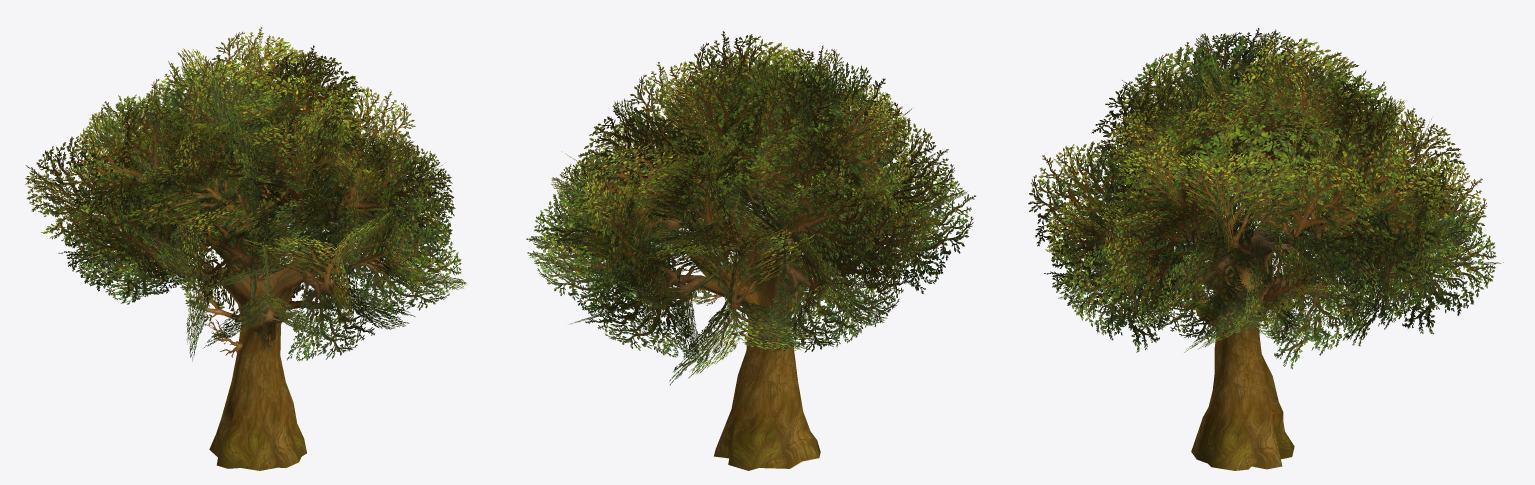
The model's file is arbol1.obj.
3 views of the same model, side by side, from view 1: azimuth 30°, elevation 25°; view 2: azimuth 150°, elevation 25°; view 3: azimuth 270°, elevation 25° (orthographic). The views are drawn at different scales.
Visible parts, largest first — view 1: arbol9:Geoset1, arbol9:Geoset0arbol1; view 2: arbol9:Geoset1, arbol9:Geoset0arbol1; view 3: arbol9:Geoset1, arbol9:Geoset0arbol1.
Boxes of the visible parts, box(x1,y1,x2,y2) form: arbol9:Geoset1: box(25, 27, 466, 360); arbol9:Geoset0arbol1: box(187, 196, 376, 470); arbol9:Geoset1: box(526, 31, 975, 385); arbol9:Geoset0arbol1: box(609, 196, 867, 470); arbol9:Geoset1: box(1028, 28, 1503, 369); arbol9:Geoset0arbol1: box(1156, 200, 1411, 470).
Bounding box in the file's own units: 40.39 × 39.69 × 43.18.
2 materials, 2 textured.
